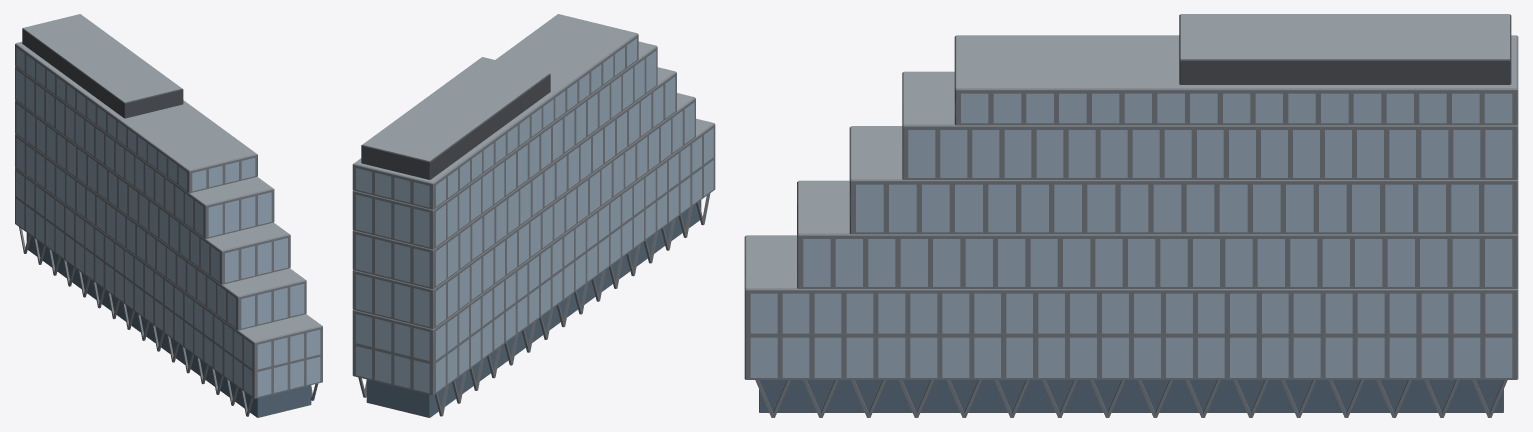
Rendered from nyc-dock-72.glb.
3 views of the same model, side by side, from view 1: azimuth 30°, elevation 25°; view 2: azimuth 150°, elevation 25°; view 3: azimuth 270°, elevation 25° (orthographic). The views are drawn at different scales.
Parts seen in each view (by area): view 1: Dock 72; view 2: Dock 72; view 3: Dock 72.
Part boxes in pixels (x1,y1,x2,y2): Dock 72: (15, 14, 322, 417); Dock 72: (352, 14, 715, 417); Dock 72: (744, 14, 1518, 417).
Size of the model in its own units: 27.1 by 82 by 162.
